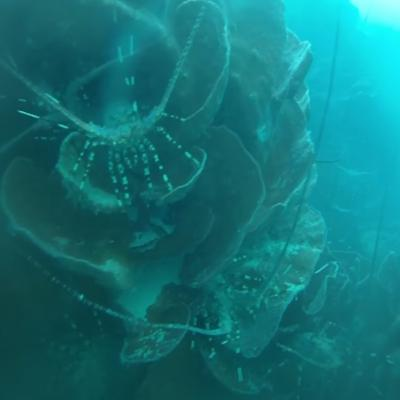lobster: (98, 90, 151, 181), (197, 273, 248, 336)
